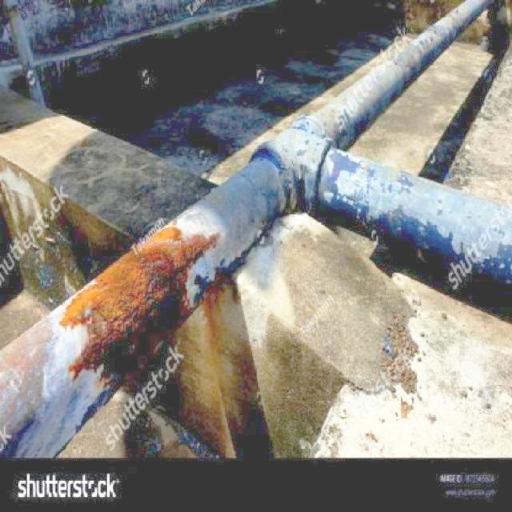corrosion: (56, 227, 214, 394)
